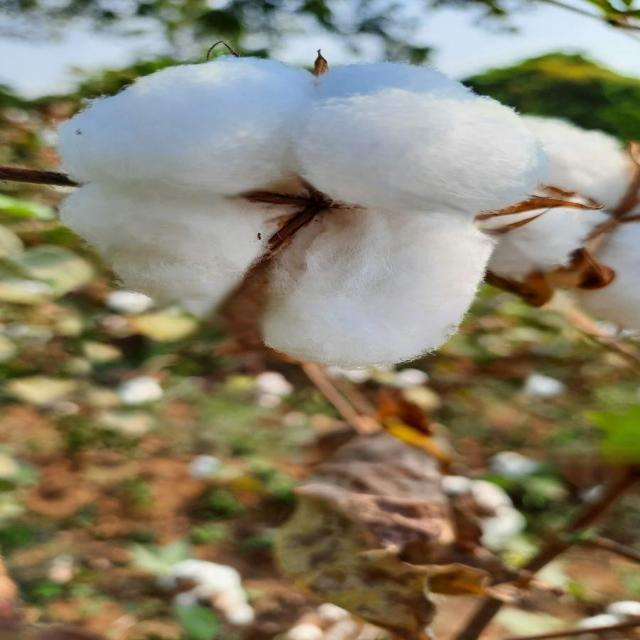Early_blight: (36, 42, 572, 376)
